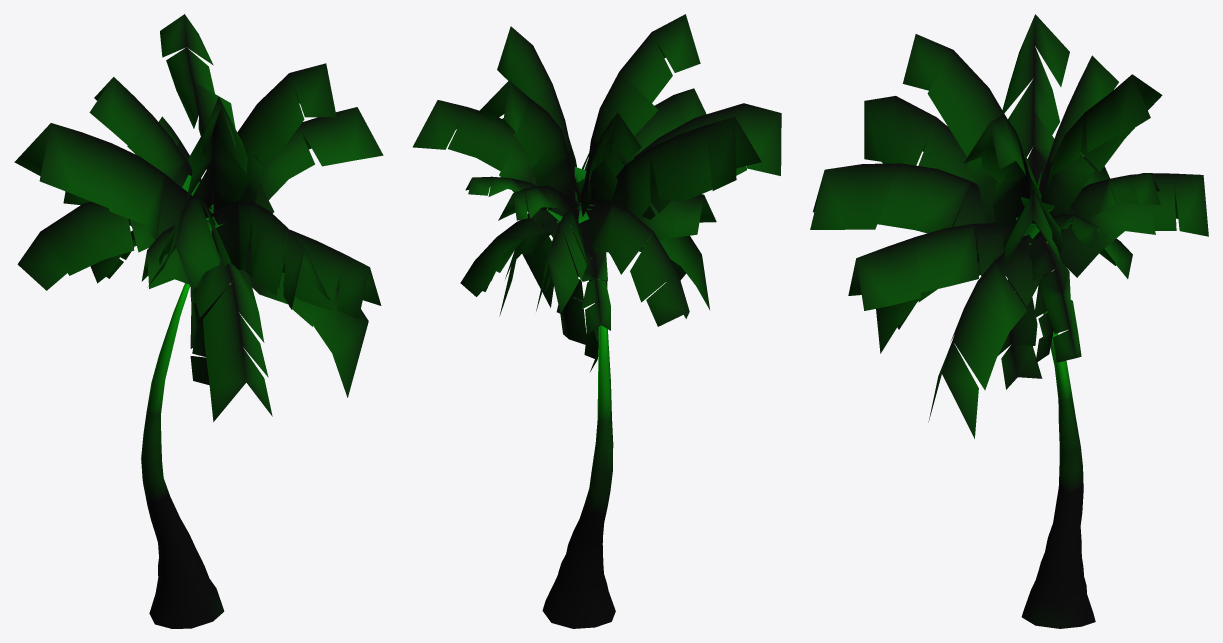
The model's file is CoconutPalmTree02_afsTREE_xlprl05_xef99_uv2_xds10_xlod01.fbx.
The picture shows the model from 3 angles, left to right: view 1: azimuth 30°, elevation 25°; view 2: azimuth 150°, elevation 25°; view 3: azimuth 270°, elevation 25°; orthographic projection. The views are drawn at different scales.
Visible parts, largest first — view 1: branch19_xw08_xt08_xp02_xlp04, trunk_xw08_xt04_xlp00, branch01_xw06_xt07_xp07_xlp04, branch17_xw08_xt09_xlp04, branch02_xw08_xt08_xlp05_xp01, branch10_xw10_xt08_xp10_xlp05, branch11_xw08_xt08_xlp04, branch17_xw12_xt10_xlp06_xp06, branch21_xw08_xt08_xp06_xlp05, branch02_xw08_xt08_xlp04, branch12_xw11_xt09_xp03_xlp06, branch03_xw06_xt07_xlp04 (+4 smaller); view 2: trunk_xw08_xt04_xlp00, branch19_xw08_xt08_xp02_xlp04, branch17_xw12_xt10_xlp06_xp06, branch17_xw08_xt09_xlp04, branch11_xw08_xt08_xlp04, branch12_xw11_xt09_xp03_xlp06, branch20_xw09_xt08_xp09_xlp04, branch10_xw10_xt08_xp10_xlp05, branch21_xw08_xt08_xp06_xlp05, branch14_xw08_xt09_xp10_xlp06, branch04_xw05_xt07_xlp05_xp02, branch07_xw04_xt08_xlp06_xp05 (+7 smaller); view 3: branch02_xw08_xt08_xlp05_xp01, trunk_xw08_xt04_xlp00, branch02_xw08_xt08_xlp04, branch03_xw06_xt07_xlp04, branch12_xw11_xt09_xp03_xlp06, branch17_xw12_xt10_xlp06_xp06, branch14_xw08_xt09_xp10_xlp06, branch19_xw08_xt08_xp02_xlp04, branch20_xw09_xt08_xp09_xlp04, branch10_xw10_xt08_xp10_xlp05, branch04_xw05_xt07_xlp05_xp02, branch15_xw08_xt09_xlp06_xp09 (+7 smaller).
Boxes of the visible parts, <box> form: branch19_xw08_xt08_xp02_xlp04: <box>14,123,192,240</box>; trunk_xw08_xt04_xlp00: <box>141,283,224,628</box>; branch01_xw06_xt07_xp07_xlp04: <box>192,250,272,421</box>; branch17_xw08_xt09_xlp04: <box>17,201,154,290</box>; branch02_xw08_xt08_xlp05_xp01: <box>211,200,330,309</box>; branch10_xw10_xt08_xp10_xlp05: <box>237,63,336,202</box>; branch11_xw08_xt08_xlp04: <box>254,107,383,213</box>; branch17_xw12_xt10_xlp06_xp06: <box>186,97,250,212</box>; branch21_xw08_xt08_xp06_xlp05: <box>89,77,192,187</box>; branch02_xw08_xt08_xlp04: <box>244,229,381,319</box>; branch12_xw11_xt09_xp03_xlp06: <box>160,14,235,169</box>; branch03_xw06_xt07_xlp04: <box>250,272,368,397</box>; trunk_xw08_xt04_xlp00: <box>542,258,615,628</box>; branch19_xw08_xt08_xp02_xlp04: <box>579,116,761,219</box>; branch17_xw12_xt10_xlp06_xp06: <box>585,14,700,177</box>; branch17_xw08_xt09_xlp04: <box>584,203,689,326</box>; branch11_xw08_xt08_xlp04: <box>413,100,555,225</box>; branch12_xw11_xt09_xp03_xlp06: <box>477,80,581,210</box>; branch20_xw09_xt08_xp09_xlp04: <box>634,103,781,175</box>; branch10_xw10_xt08_xp10_xlp05: <box>497,26,577,182</box>; branch21_xw08_xt08_xp06_xlp05: <box>580,112,641,216</box>; branch14_xw08_xt09_xp10_xlp06: <box>536,208,589,313</box>; branch04_xw05_xt07_xlp05_xp02: <box>460,215,559,296</box>; branch07_xw04_xt08_xlp06_xp05: <box>572,221,610,335</box>; branch02_xw08_xt08_xlp05_xp01: <box>810,163,995,253</box>; trunk_xw08_xt04_xlp00: <box>1021,311,1095,628</box>; branch02_xw08_xt08_xlp04: <box>848,223,1012,310</box>; branch03_xw06_xt07_xlp04: <box>928,237,1042,438</box>; branch12_xw11_xt09_xp03_xlp06: <box>1040,74,1162,234</box>; branch17_xw12_xt10_xlp06_xp06: <box>902,34,1008,222</box>; branch14_xw08_xt09_xp10_xlp06: <box>1058,173,1208,277</box>; branch19_xw08_xt08_xp02_xlp04: <box>1002,14,1069,186</box>; branch20_xw09_xt08_xp09_xlp04: <box>864,96,976,183</box>; branch10_xw10_xt08_xp10_xlp05: <box>963,115,1041,232</box>; branch04_xw05_xt07_xlp05_xp02: <box>1027,234,1081,362</box>; branch15_xw08_xt09_xlp06_xp09: <box>1041,173,1160,242</box>.
Size of what is drawn, in the model's own units: 12.05 by 12.44 by 19.55.
